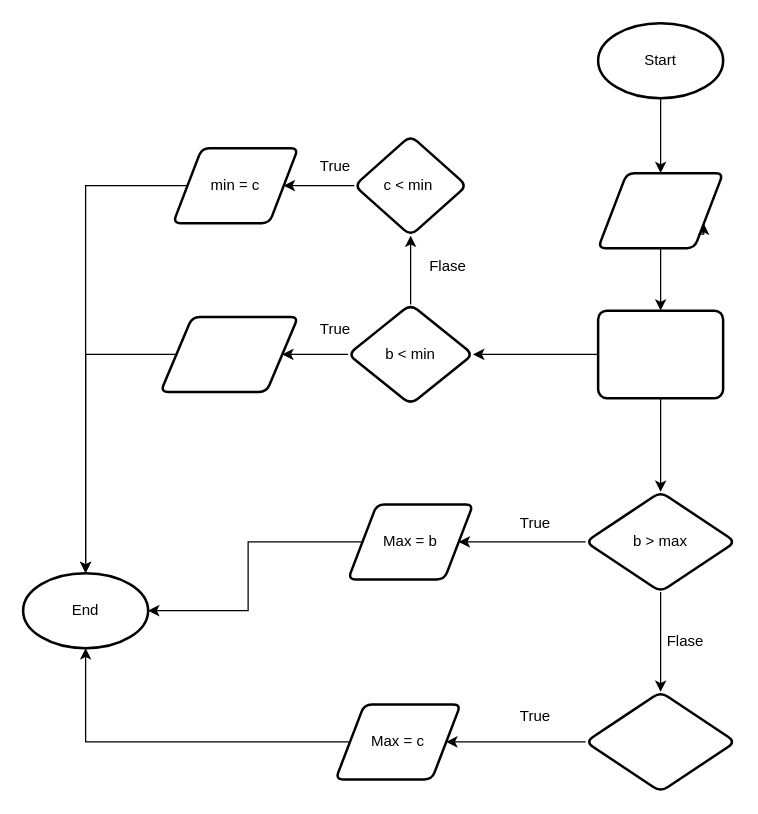
Some shapes in this 758 by 814 pixel diagram are drawn without their labels. Each missing label, with the centre of its shape:
"c > max" belongs at (x=660, y=741).
"Input a, b , c" belongs at (x=660, y=210).
"Max = a, Min = a" belongs at (x=660, y=354).
"min = b" belongs at (x=229, y=353).
